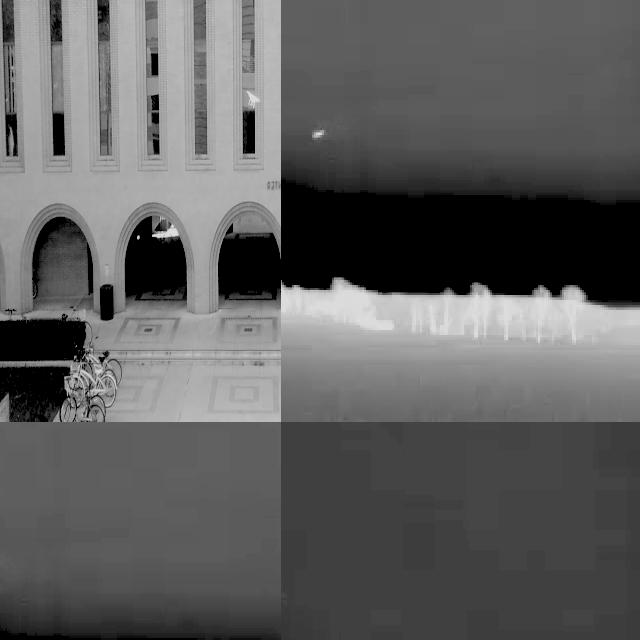0: (281, 581, 286, 608)
1: (300, 121, 336, 154)
drone: (243, 86, 263, 116)
